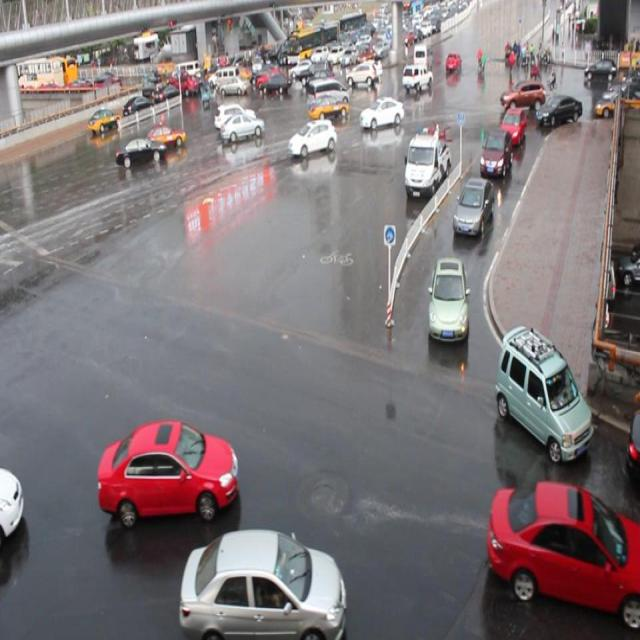bus: (402, 133, 450, 199)
car: (485, 481, 640, 622), (178, 524, 348, 640), (98, 417, 238, 525), (494, 324, 592, 463), (428, 255, 469, 340), (450, 176, 494, 236), (287, 117, 336, 158), (1, 465, 25, 539), (115, 134, 167, 165), (478, 127, 511, 175), (535, 93, 580, 126), (498, 78, 544, 110), (360, 96, 404, 129), (220, 110, 265, 142), (142, 121, 186, 149), (213, 102, 256, 130), (308, 95, 349, 123), (499, 105, 525, 145)
truck: (308, 78, 349, 110)
